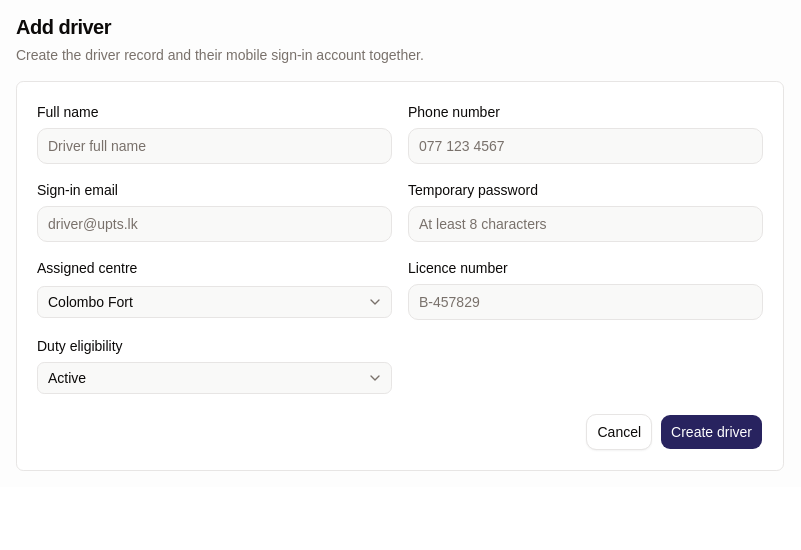
Scenario: DriverFormPage › rejects a driver with no email
Check: the heading "Add driver" is shown, box [16, 16, 111, 38]
Type "Kamal" into the field with placeholder "Driver full name" at [214, 146], box [37, 128, 392, 164]
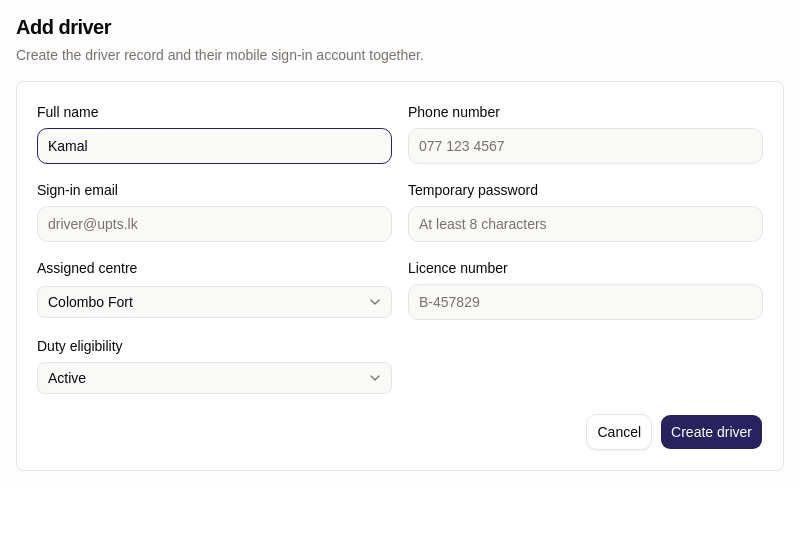
Type "Passw0rd!" into the password field with placeholder "At least 8 characters" at [586, 224], box [408, 206, 763, 242]
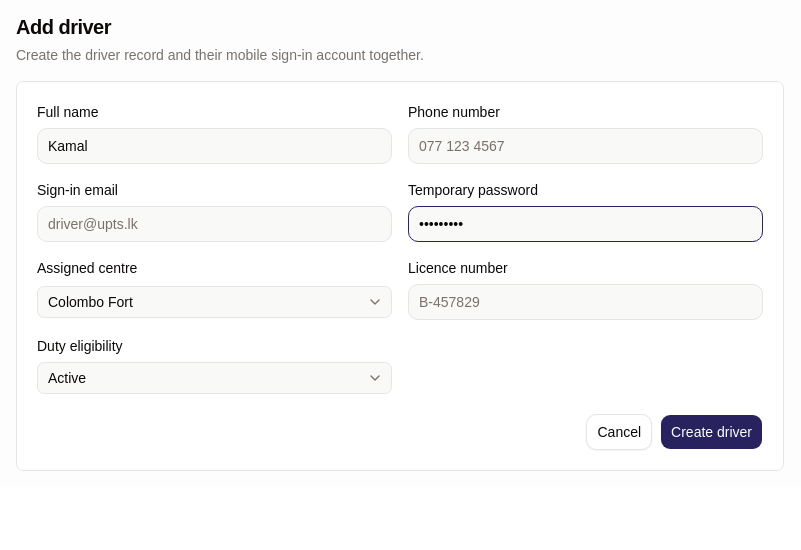
Type "dl-1" into the field with placeholder "B-457829" at [586, 302], box [408, 284, 763, 320]
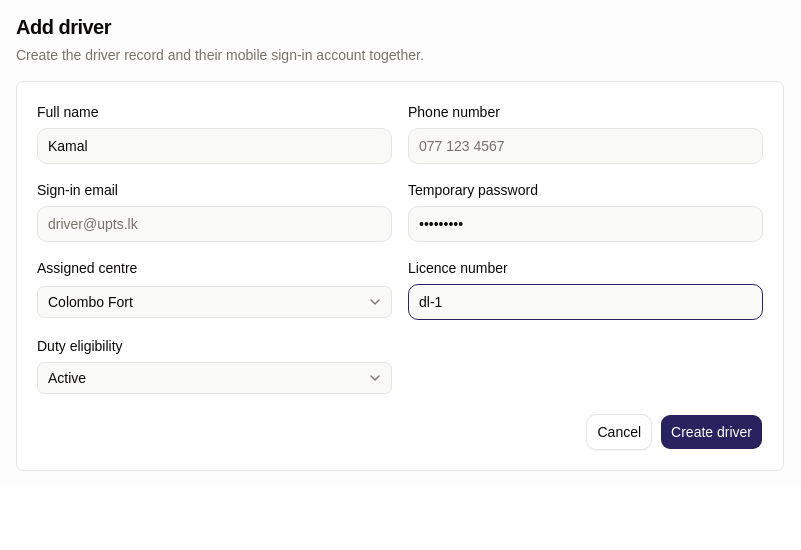
Click the button "Create driver" at [712, 432], box [660, 414, 763, 450]
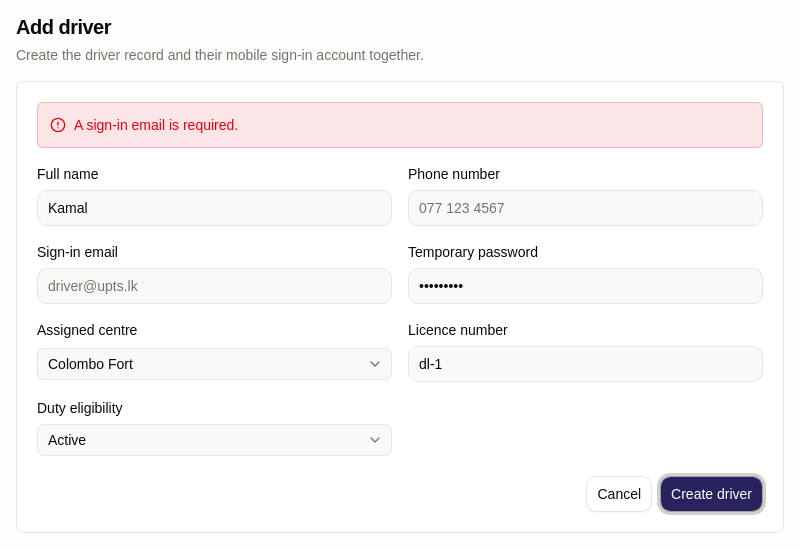
Check: the text "A sign-in email is required." is shown, box [74, 115, 238, 135]
